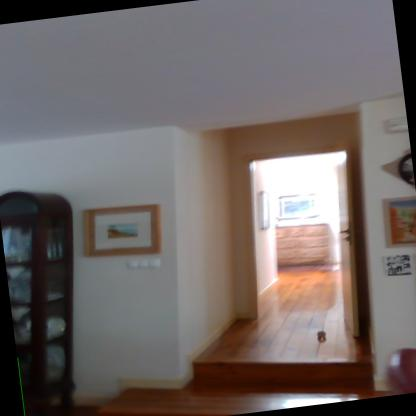open: (215, 123, 394, 393)
